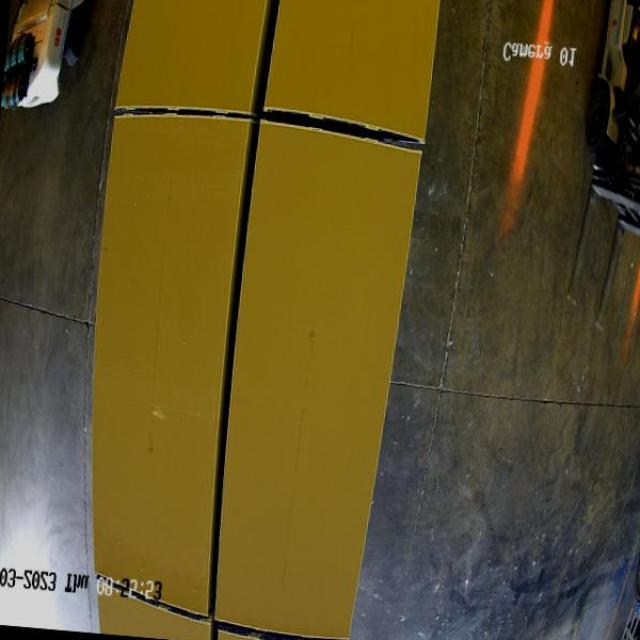forklift: (564, 0, 639, 311), (0, 1, 101, 139)
